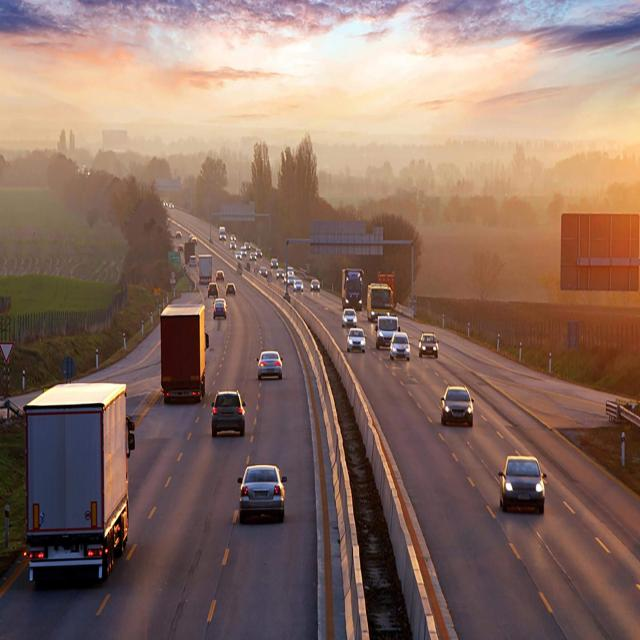Clean road: (0, 307, 640, 640)
